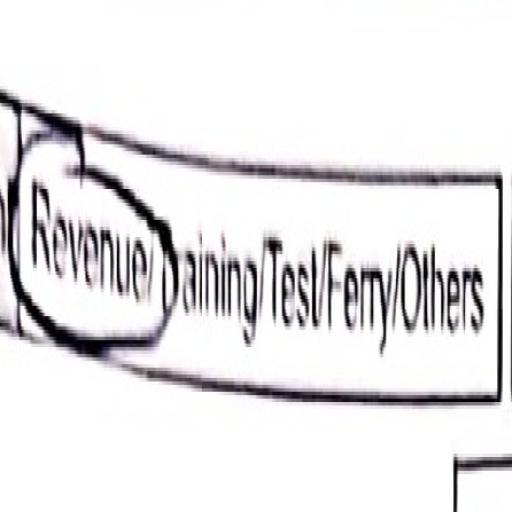check: (13, 36, 156, 425)
